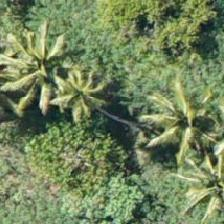coconut_tree: (37, 57, 127, 147), (134, 84, 223, 174), (0, 22, 83, 112), (165, 143, 223, 223)
